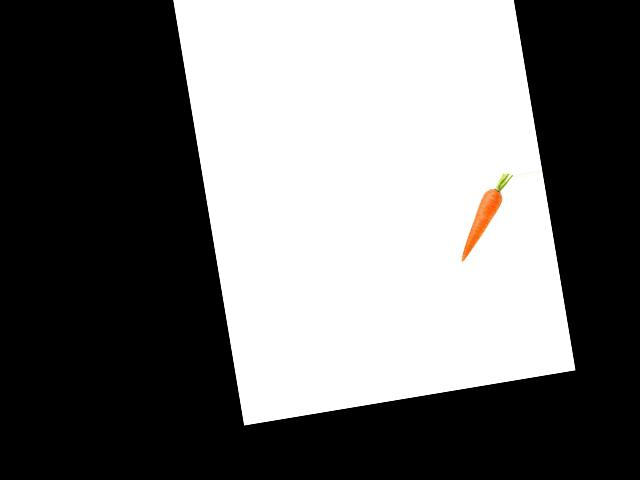carrot: (448, 183, 513, 262)
